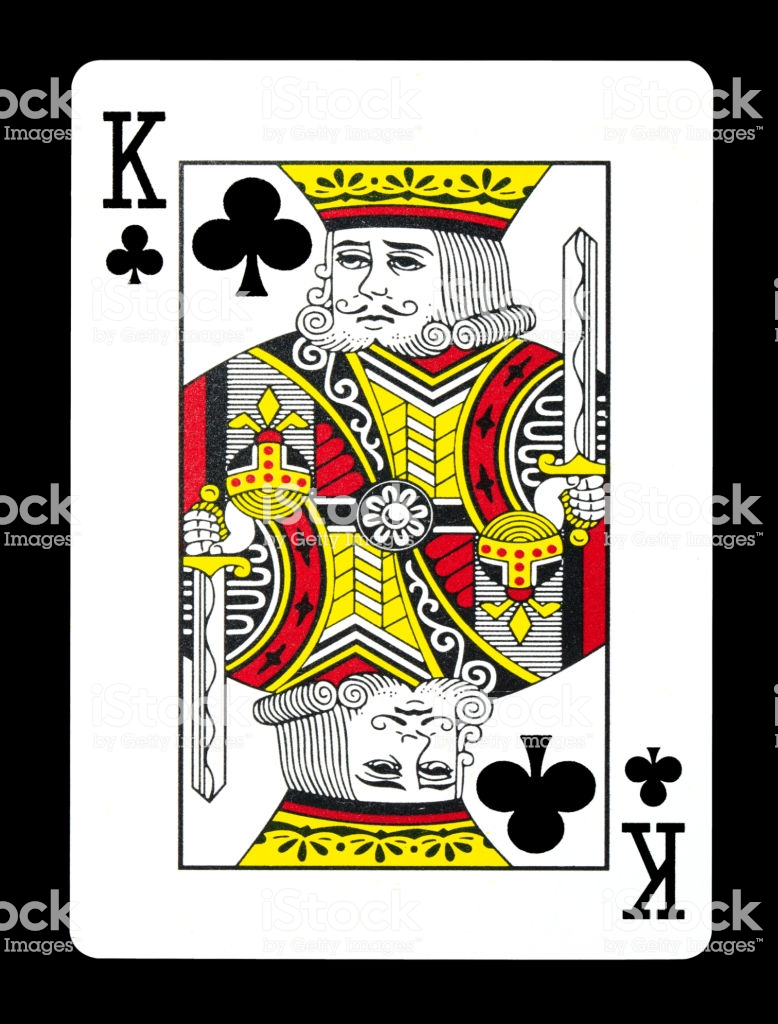king of clubs: (71, 59, 710, 954)
